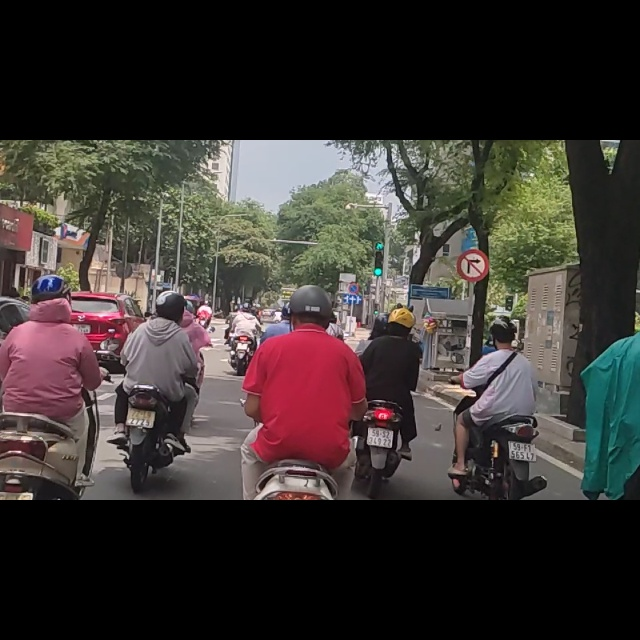bien_cam: (457, 193, 490, 249), (347, 254, 360, 274)
